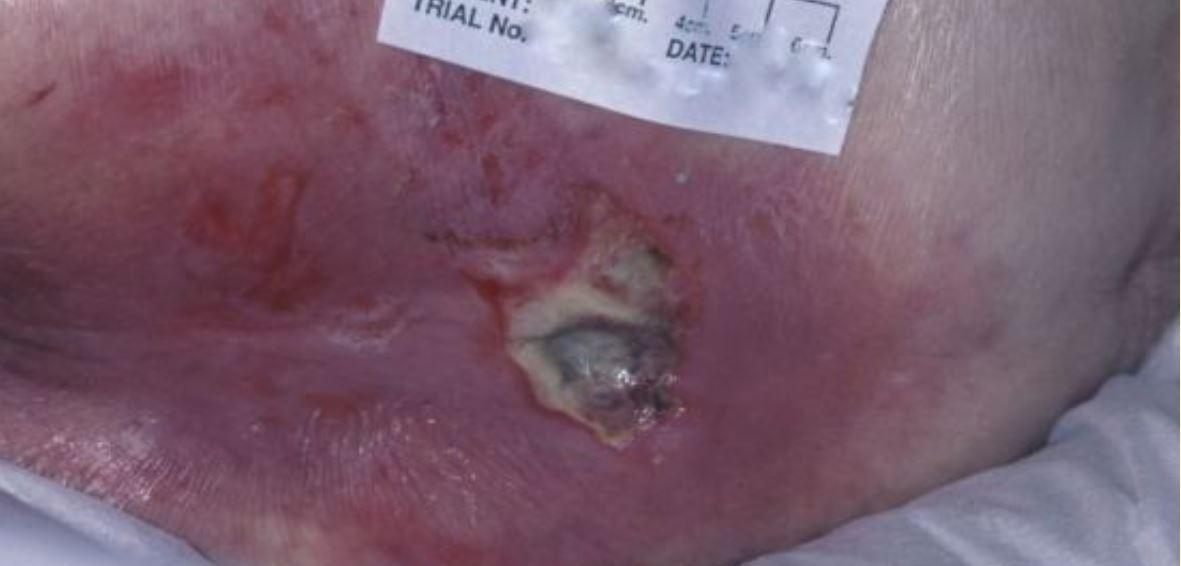Stage3: (459, 172, 756, 473)
